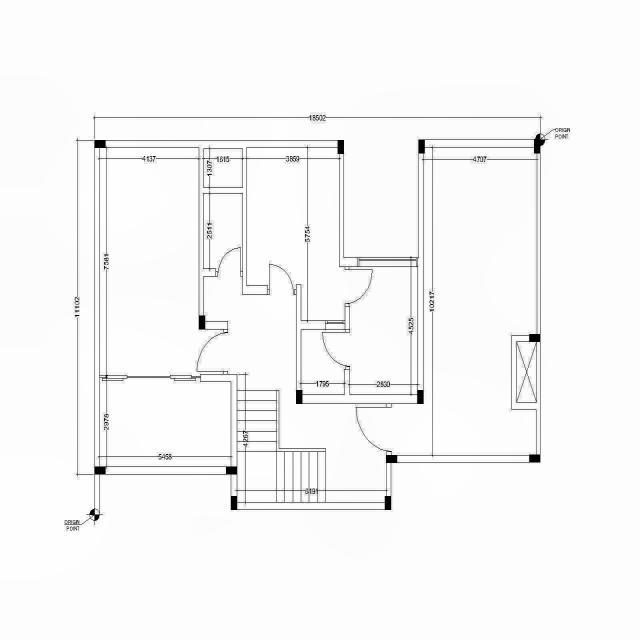Column: (384, 496, 392, 510), (198, 316, 206, 330), (417, 390, 424, 404), (418, 140, 425, 154), (534, 138, 540, 154), (94, 466, 106, 474), (94, 140, 106, 148), (386, 455, 397, 463), (226, 466, 237, 474), (338, 140, 344, 154), (296, 390, 302, 404), (231, 496, 237, 510), (530, 334, 540, 342), (530, 454, 540, 462)
Door: (355, 402, 393, 456), (196, 328, 228, 374), (321, 328, 352, 371), (344, 266, 374, 308), (266, 262, 298, 298), (214, 245, 244, 279)
Sliding Door: (98, 374, 129, 382), (170, 374, 197, 382)
Staircase: (234, 388, 328, 506)
Window: (357, 256, 419, 268), (324, 320, 346, 331)
